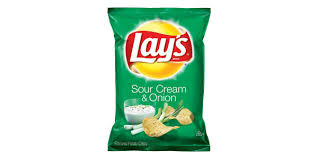lays-med: (106, 8, 211, 148)
